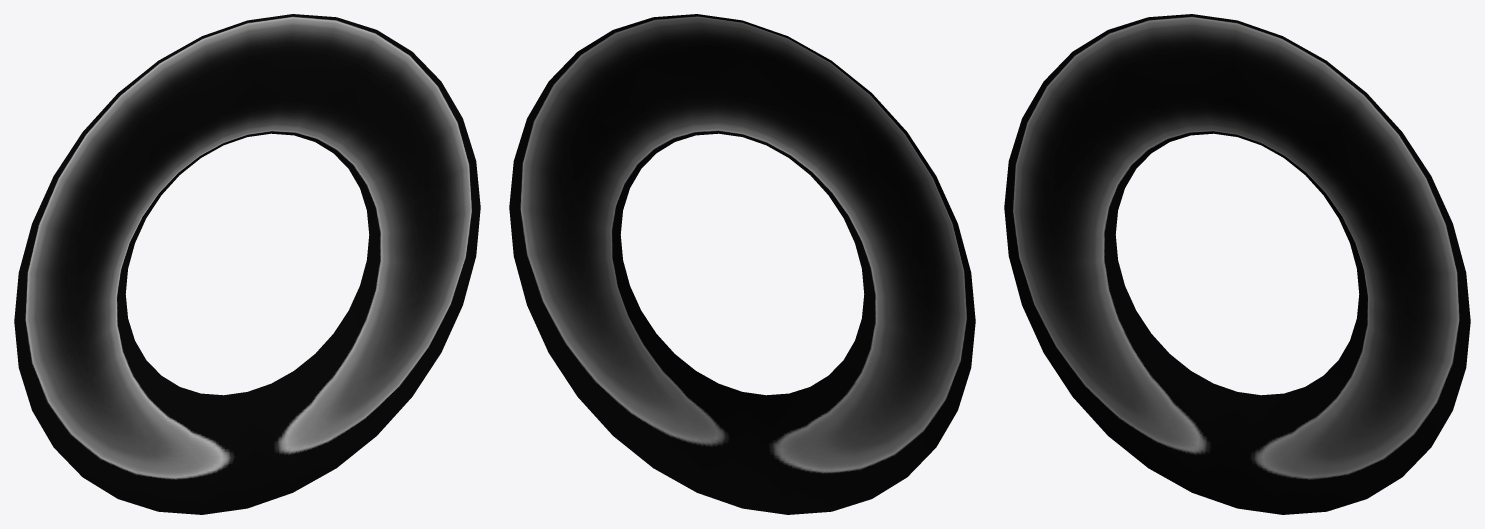
The model's file is 0378_mega_ring_z01.glb.
3 views of the same model, side by side, from view 1: azimuth 30°, elevation 25°; view 2: azimuth 150°, elevation 25°; view 3: azimuth 330°, elevation 25° (orthographic).
Bounding box in the file's own units: 2.2 × 2.2 × 0.0574.
Materials: 1 (1 with a texture image).
